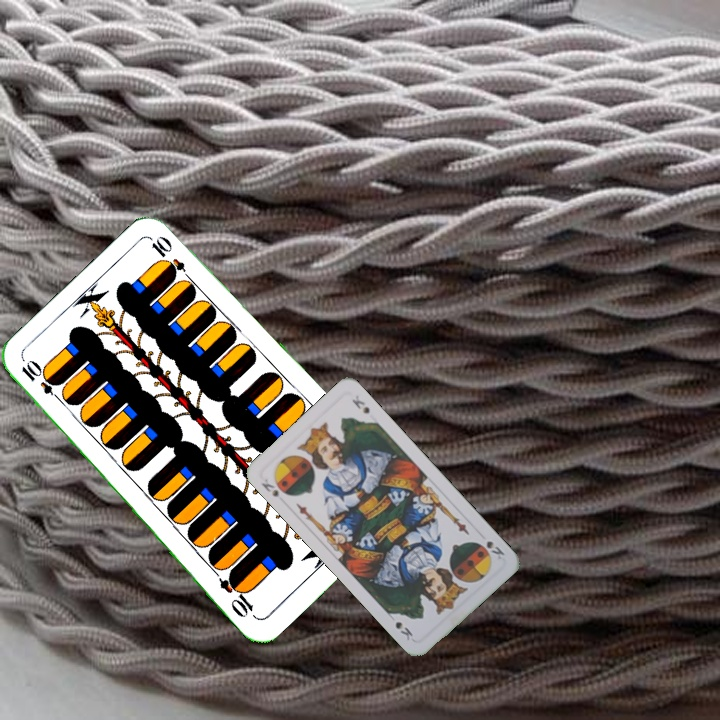E10: (17, 358, 67, 406)
SK: (257, 474, 289, 506), (482, 537, 507, 562)
